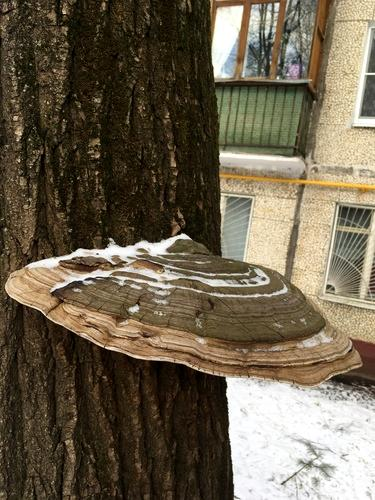Ganoderma - Fruit Body: (5, 237, 363, 385)
